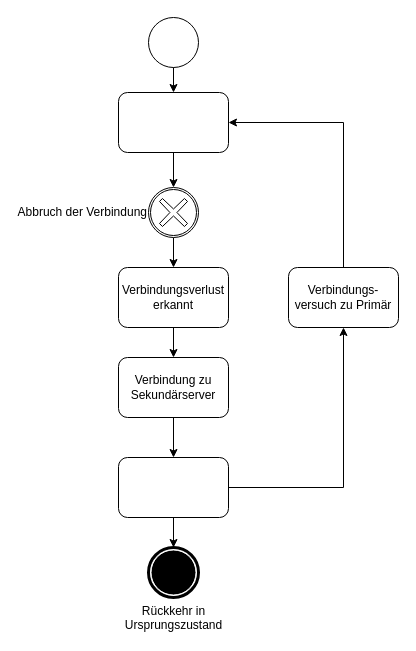
The diagram is 416 pixels wide and 651 high, and some of its shapes have lost their labels. Each missing label, with the centre of its shape:
Primär Server wieder online: (x=173, y=487)
Verbunden mit primär Server: (x=173, y=122)
